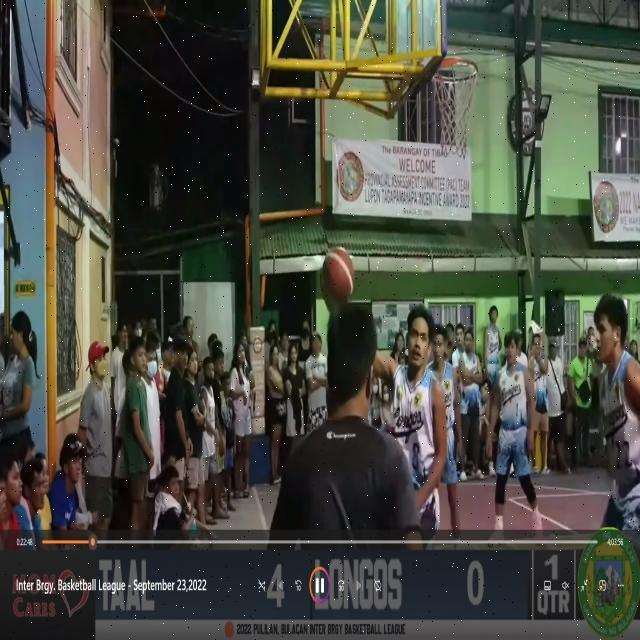ball: (321, 245, 355, 306)
